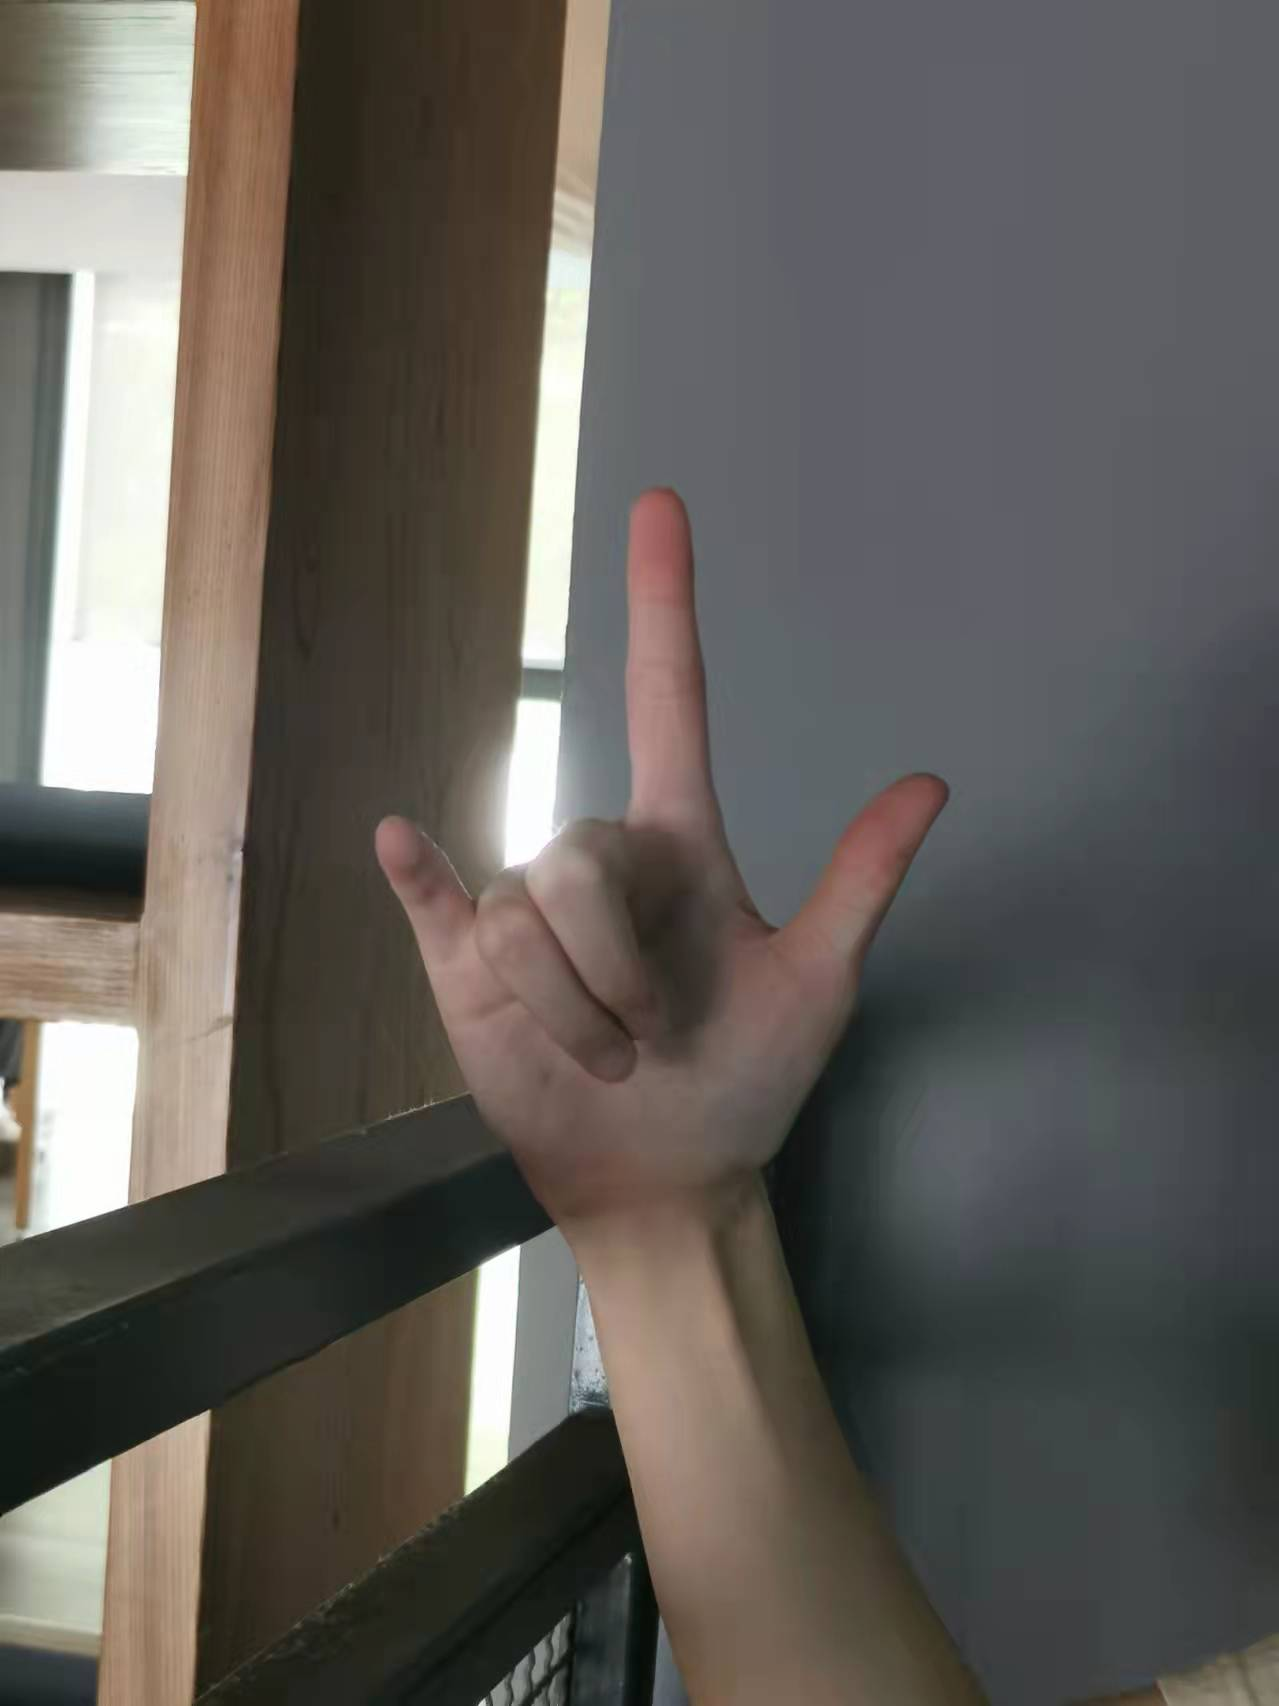back: (367, 466, 949, 1216)
